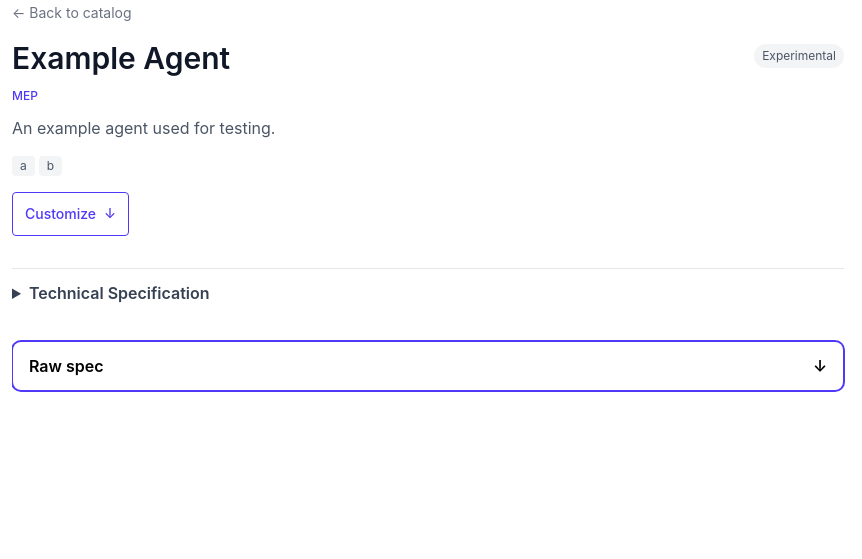
Test case: UI_SPEC_VIEWER flag on › is collapsed, keyboard operable, and renders text as escaped spans
Click the button "Raw spec ↓" at (66, 366), box [13,342,843,390]
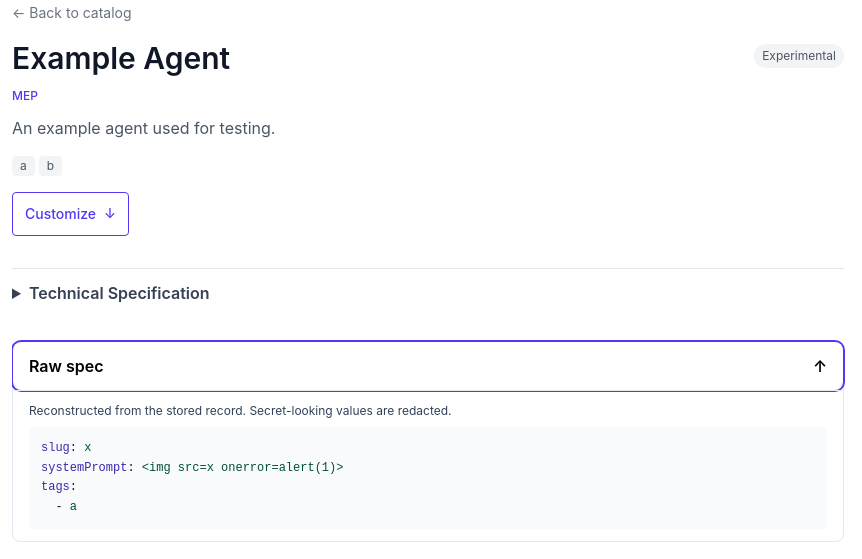
Check: the button "Raw spec ↑" is expanded, box [13,342,843,390]
Check: the text "slug" is shown, box [41,441,70,455]
